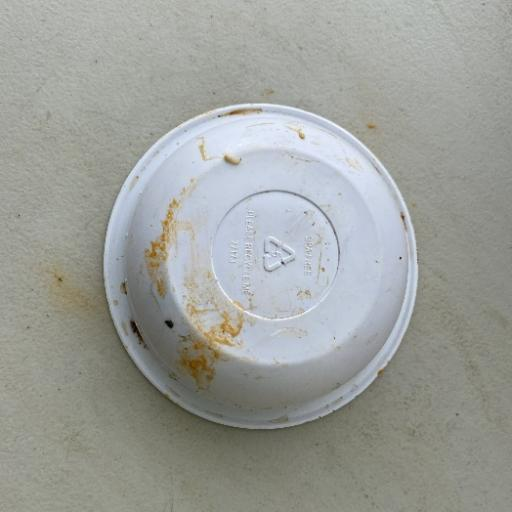Plastic: (100, 101, 420, 431)
